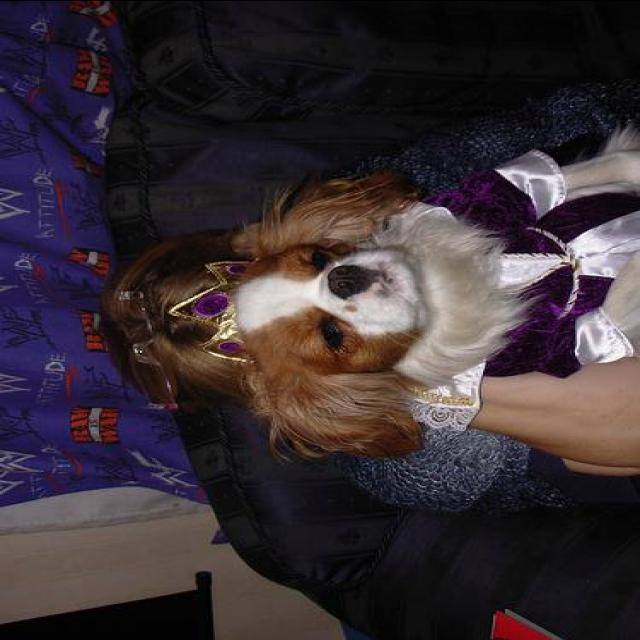blenheim_spaniel: (177, 110, 638, 463)
